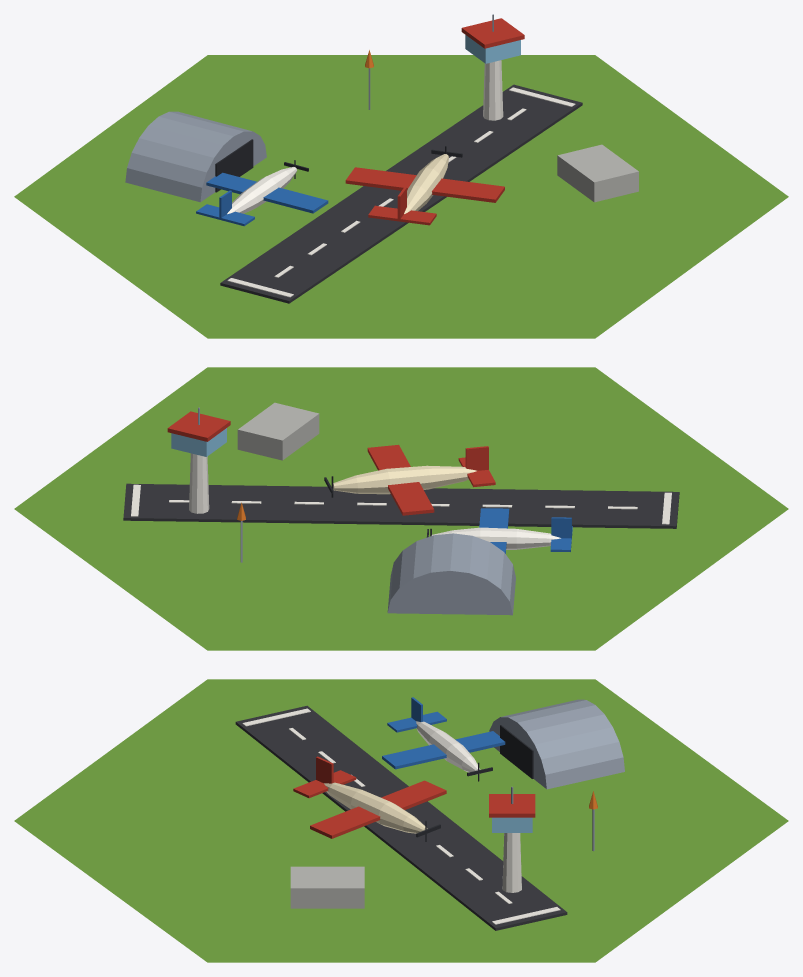
Rendered from district_aerodrome_2.fbx.
The picture shows the model from 3 angles, top to bottom: view 1: azimuth 30°, elevation 25°; view 2: azimuth 150°, elevation 25°; view 3: azimuth 270°, elevation 25°; orthographic projection.
Parts seen in each view (by area): view 1: district_aerodrome_2; view 2: district_aerodrome_2; view 3: district_aerodrome_2.
Boxes of the visible parts, x1,y1,x2,y2 form: district_aerodrome_2: (14,14,788,338); district_aerodrome_2: (14,367,788,650); district_aerodrome_2: (14,679,788,962).
Size of the model in its own units: 182 by 31.6 by 210.
